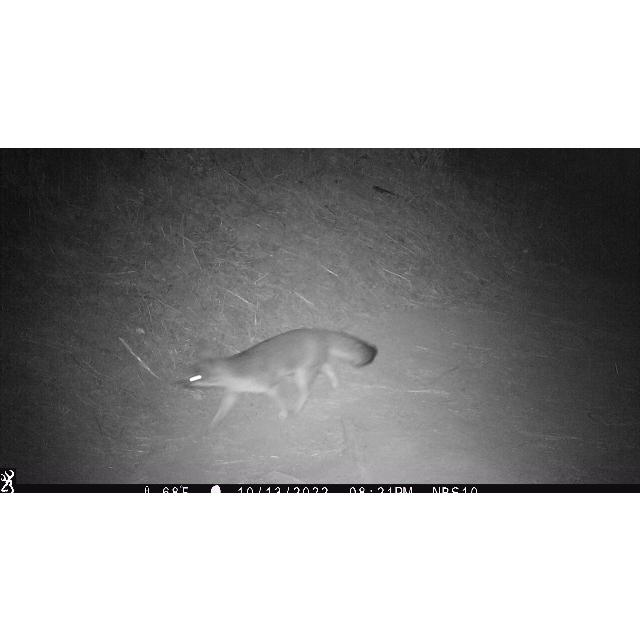animals: (175, 326, 378, 430)
